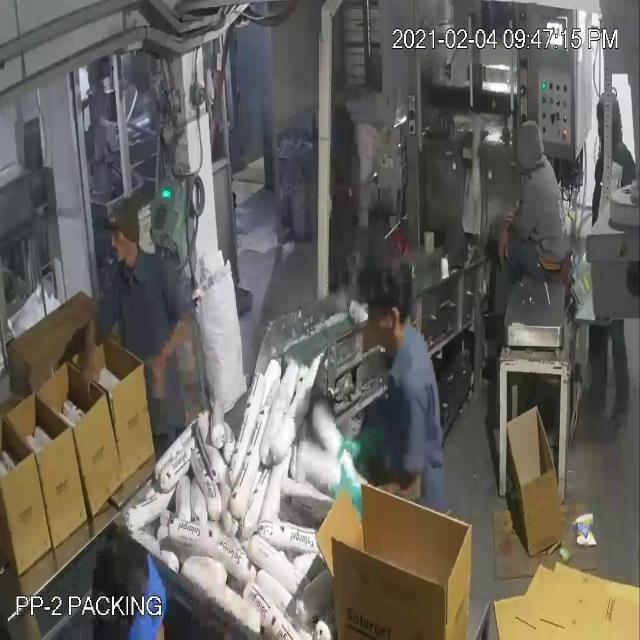No_Gloves: (36, 46, 363, 446)
